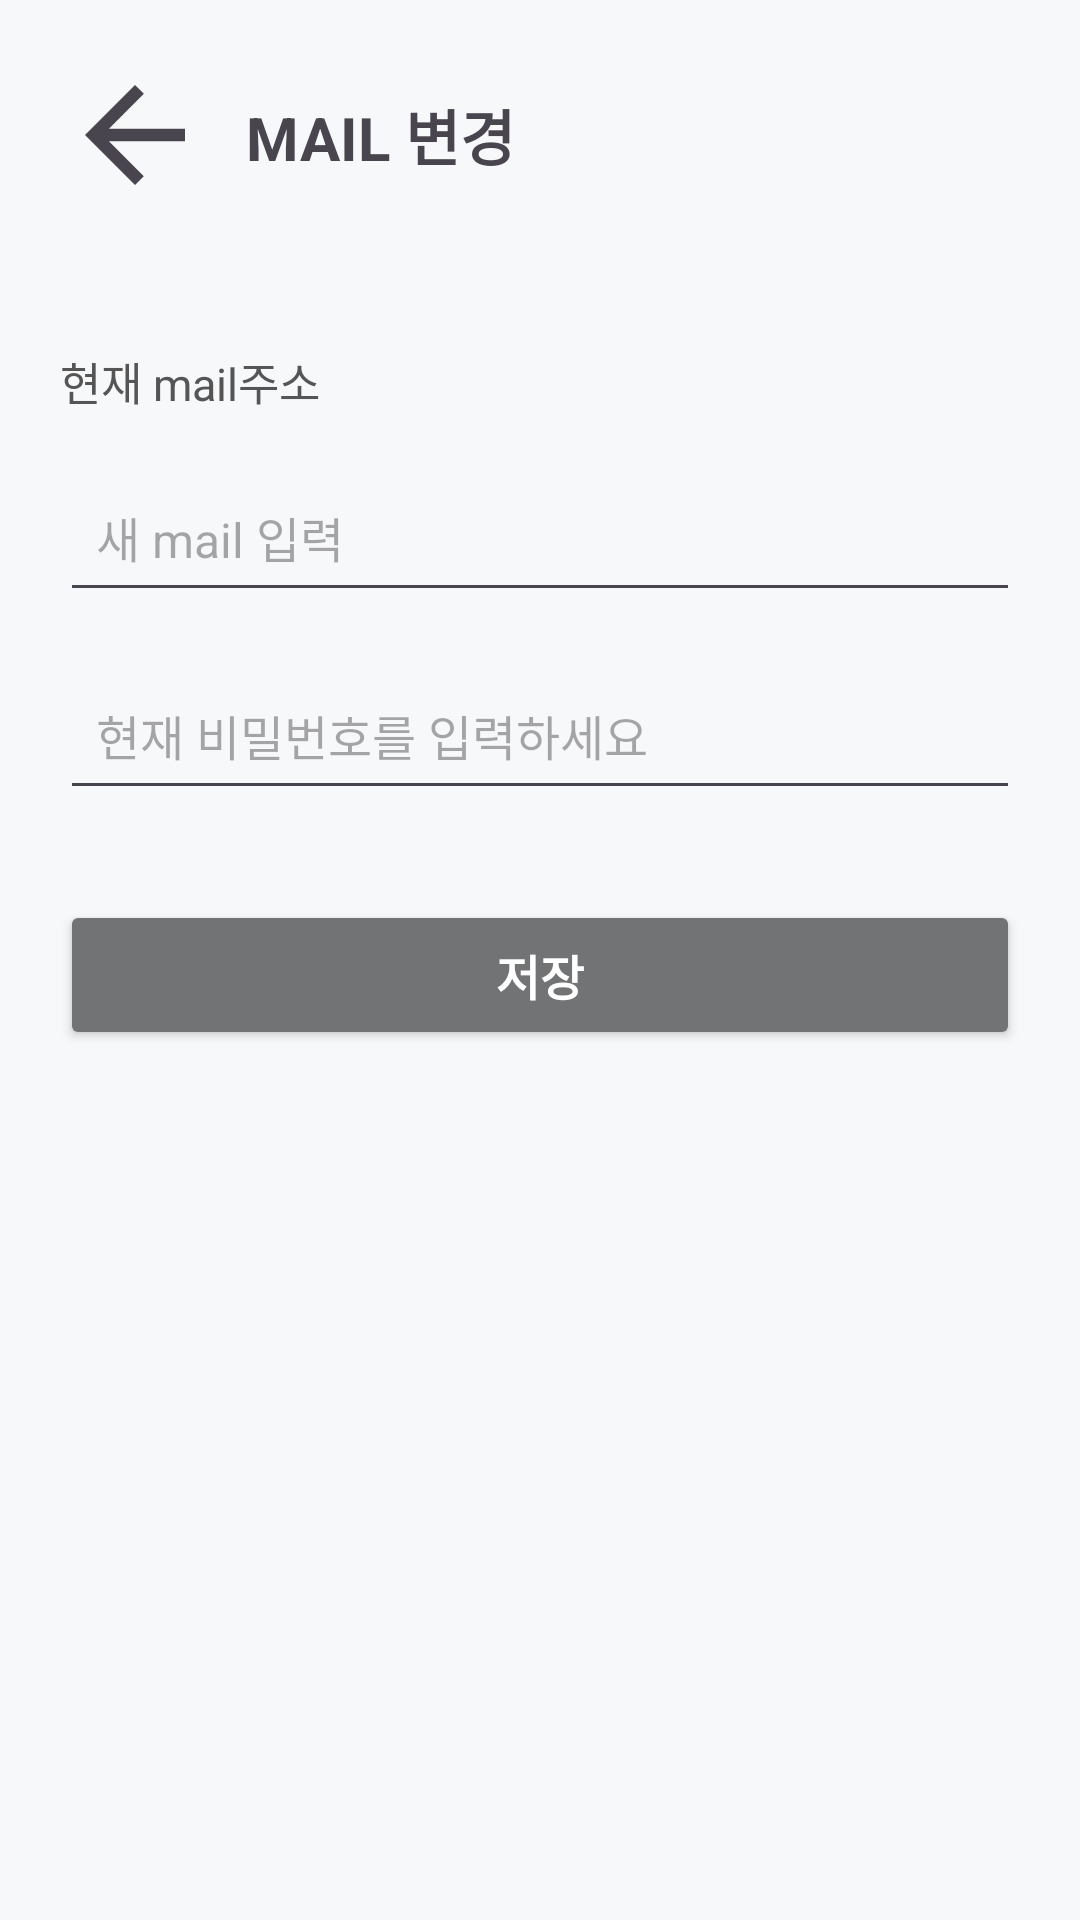

Where icons sit on this 1080 × 1920 app screen, as (x1, y1, x2, y2):
Back: (85, 85, 185, 185)
